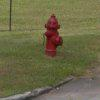Hydrant: (34, 8, 70, 63)
